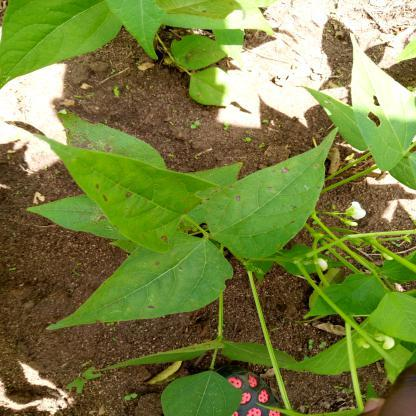Beans_Angular_LeafSpot: (29, 123, 190, 251), (46, 240, 229, 323), (220, 148, 335, 258)
